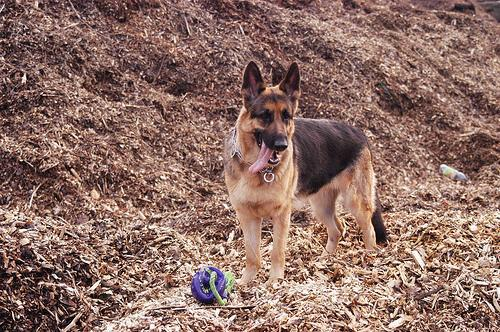German_shepherd: (224, 61, 388, 281)
